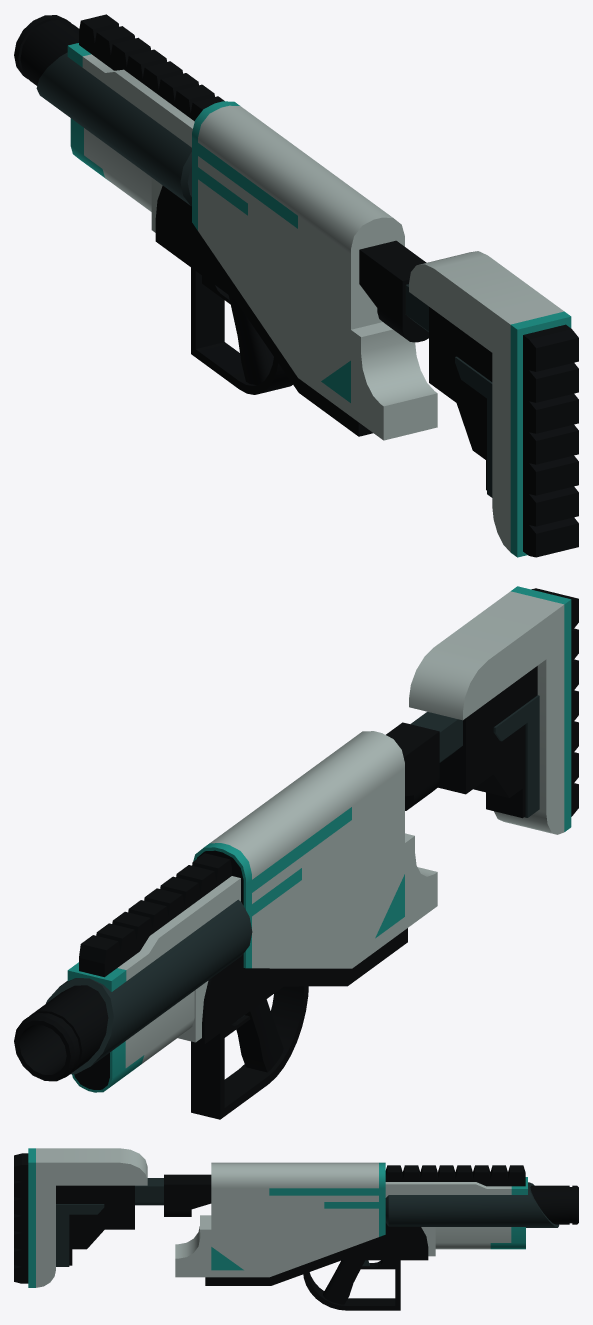
The model's file is micro-missiles.glb.
The picture shows the model from 3 angles, top to bottom: view 1: azimuth 30°, elevation 25°; view 2: azimuth 150°, elevation 25°; view 3: azimuth 270°, elevation 25°; orthographic projection. The views are drawn at different scales.
Parts seen in each view (by area): view 1: Grenade_1; view 2: Grenade_1; view 3: Grenade_1.
Boxes of the visible parts, bbox=[...] form: Grenade_1: bbox=[14, 14, 578, 557]; Grenade_1: bbox=[14, 586, 578, 1119]; Grenade_1: bbox=[14, 1148, 578, 1310].
Size of the model in its own units: 0.1459 by 0.5339 by 1.81.
